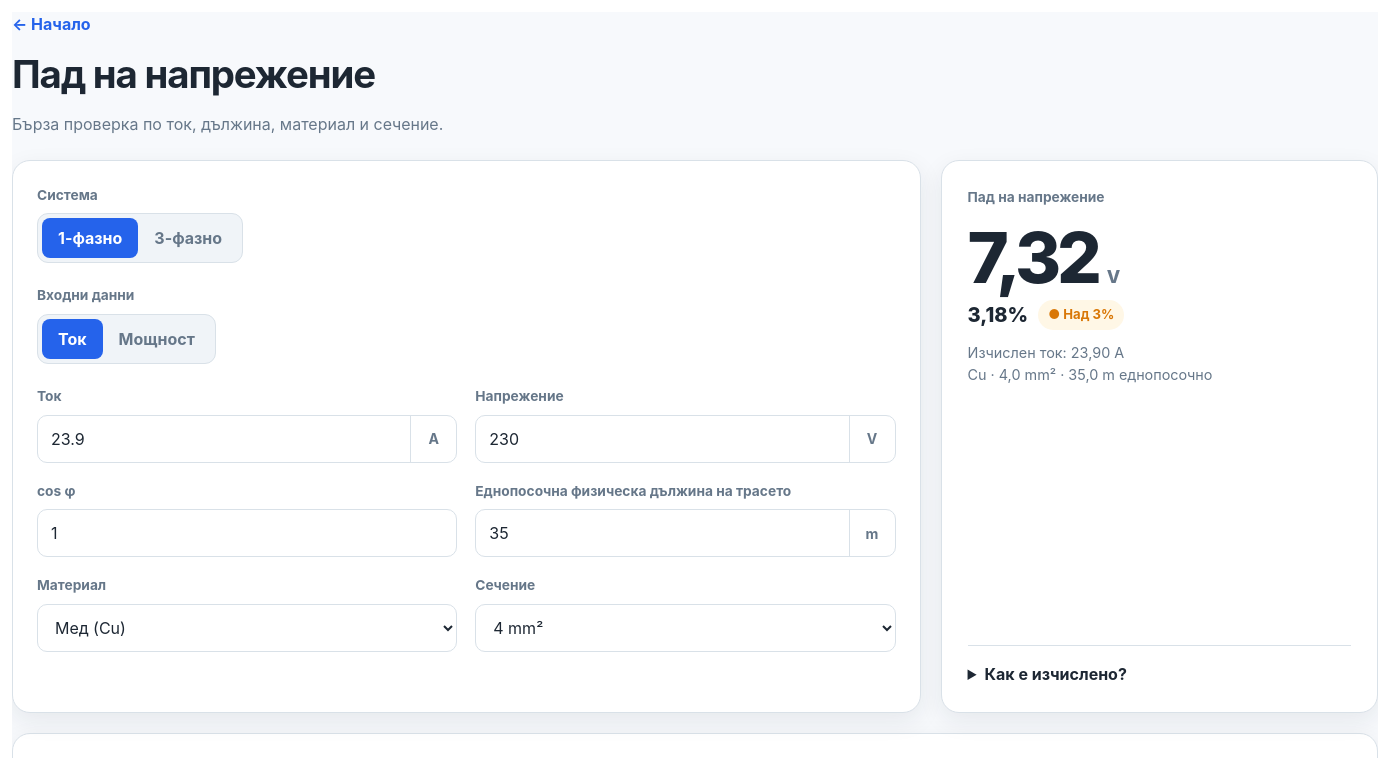
Test: VoltageDropCalculator › uses material and section selections in the existing calculation model
Check: the text with id "drop-result-volts" reads "7,32", box [968,215,1098,300]
Select "Алуминий (Al)" in the dropdown labelled "Материал": (247,628) [38,605,456,651]
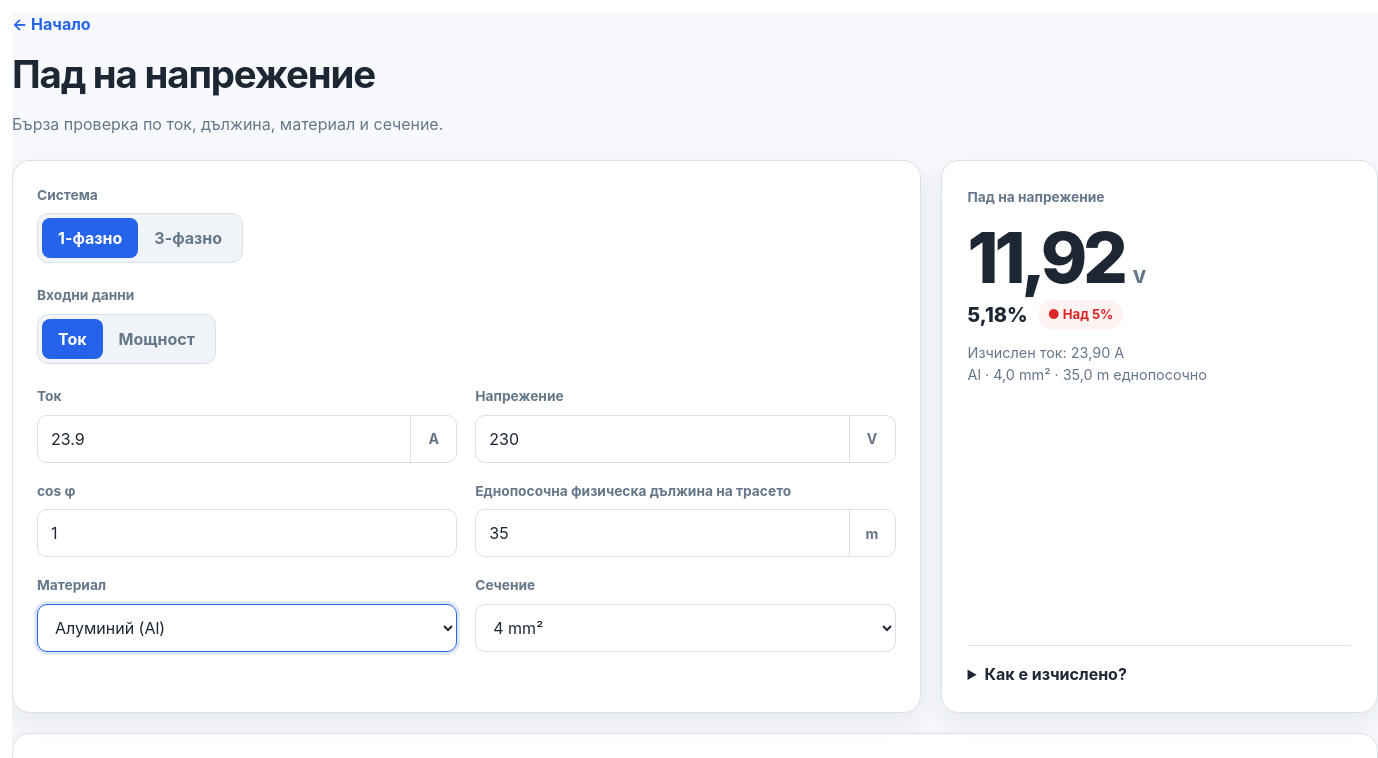
Check: the text with id "drop-result-volts" reads "11,92", box [968,215,1124,300]
Select "10 mm²" in the dropdown labelled "Сечение": (685,628) [476,605,895,651]
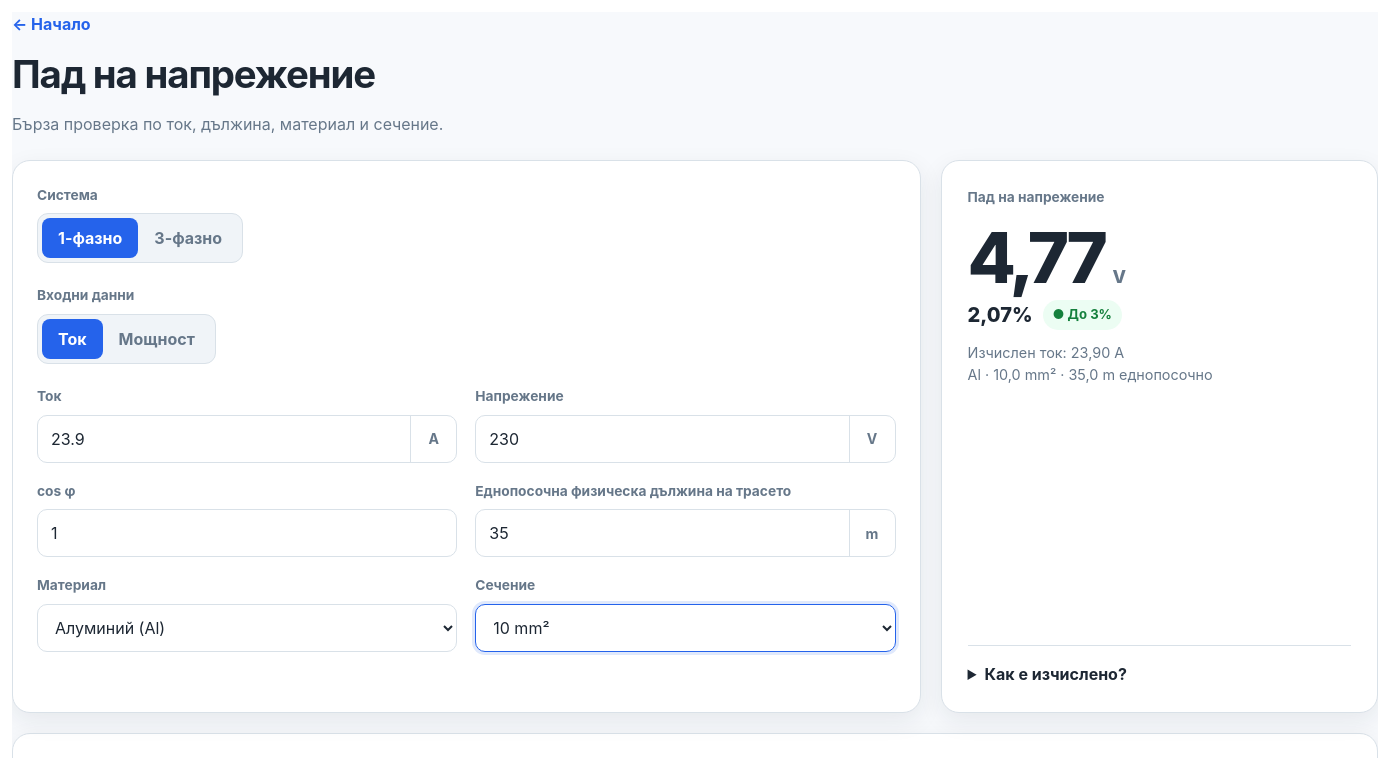
Check: the text with id "drop-result-volts" reads "4,77", box [968,215,1104,300]
